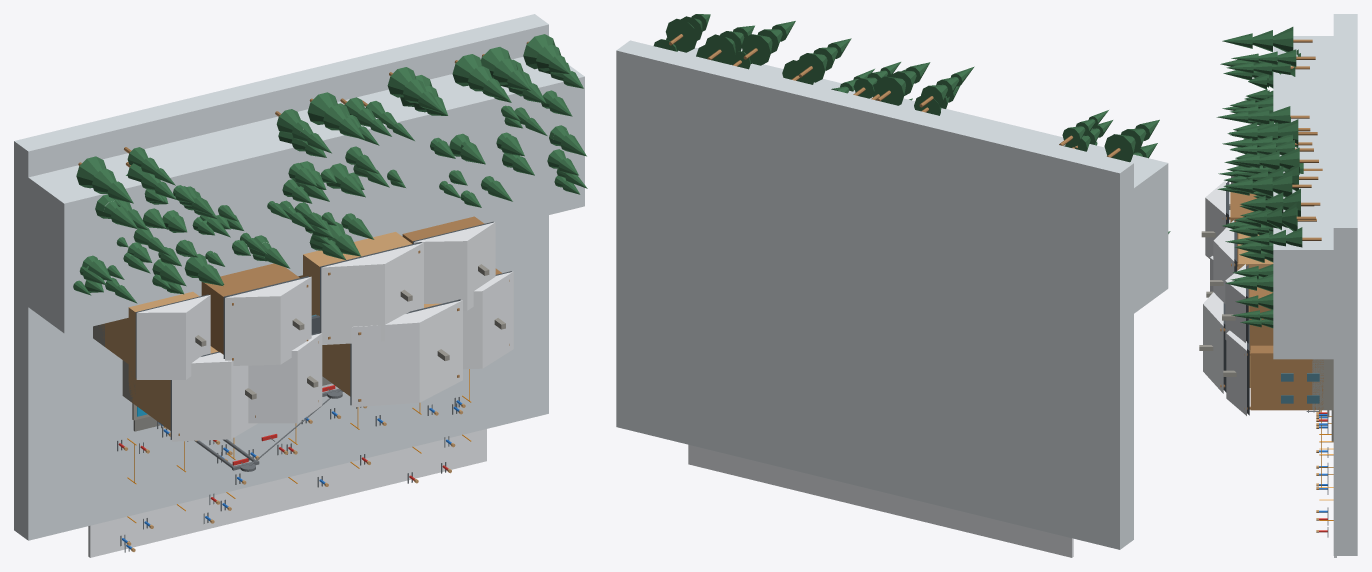
Rendered from detailed_ski_resort_blender_style.glb.
3 renders of one model, left to right at view 1: azimuth 30°, elevation 25°; view 2: azimuth 150°, elevation 25°; view 3: azimuth 270°, elevation 25°, orthographic. The views are drawn at different scales.
Parts seen in each view (by area): view 1: terrain_base, rear_hill, ski_slope, B3_snowroof, B7_snowroof, B6_snowroof, B1_snowroof, B5_snowroof, B2_snowroof, B8_snowroof, B4_snowroof, B6_body (+5 smaller); view 2: terrain_base, rear_hill, ski_slope, tree_83_0, tree_34_0, tree_57_0, tree_46_0, tree_78_0; view 3: rear_hill, terrain_base, B4_body, B3_snowroof, B4_snowroof, B7_snowroof, B6_snowroof, B8_snowroof, B4_stone_base, B8_body, B6_body, B7_body (+26 smaller).
Boxes of the visible parts, x1,y1,x2,y2 form: terrain_base: (14,14,548,540); rear_hill: (21,56,584,333); ski_slope: (88,429,486,557); B3_snowroof: (351,300,462,407); B7_snowroof: (321,242,423,344); B6_snowroof: (225,276,311,365); B1_snowroof: (172,352,257,441); B5_snowroof: (136,295,210,379); B2_snowroof: (248,333,322,423); B8_snowroof: (414,222,495,310); B4_snowroof: (463,271,513,369); B6_body: (201,263,299,354); terrain_base: (616,40,1133,549); rear_hill: (677,47,1168,318); ski_slope: (688,444,1073,557); tree_83_0: (665,18,697,52); tree_34_0: (741,34,772,65); tree_57_0: (704,34,735,64); tree_46_0: (874,76,905,105); tree_78_0: (797,53,827,82); rear_hill: (1273,36,1345,359); terrain_base: (1333,14,1357,555); B4_body: (1250,345,1323,410); B3_snowroof: (1203,292,1223,393); B4_snowroof: (1226,330,1246,415); B7_snowroof: (1213,220,1234,303); B6_snowroof: (1205,180,1225,258); B8_snowroof: (1225,264,1245,342); B4_stone_base: (1312,359,1333,410); B8_body: (1249,287,1273,349); B6_body: (1230,192,1256,266); B7_body: (1238,233,1273,311).
Size of the model in its own units: 42 by 33.52 by 13.15.
